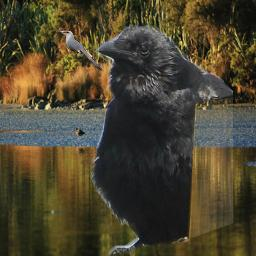Crow: (87, 24, 233, 255)
Cuckoo: (56, 30, 104, 72)
